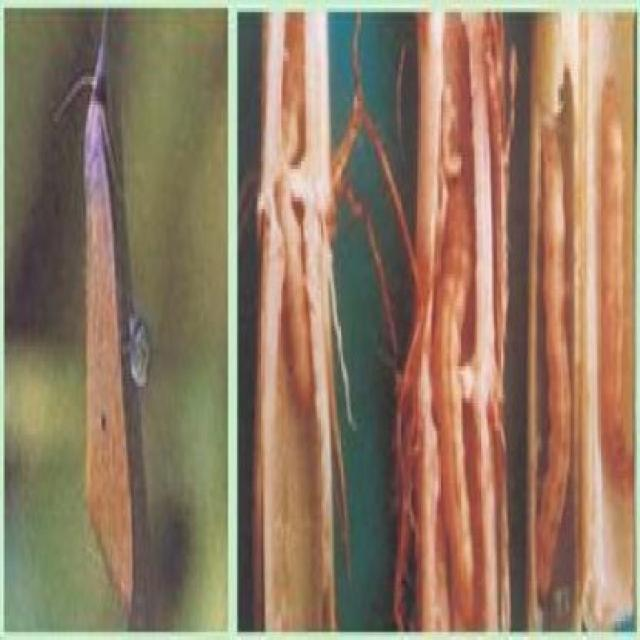stem-borer: (77, 12, 135, 616)
